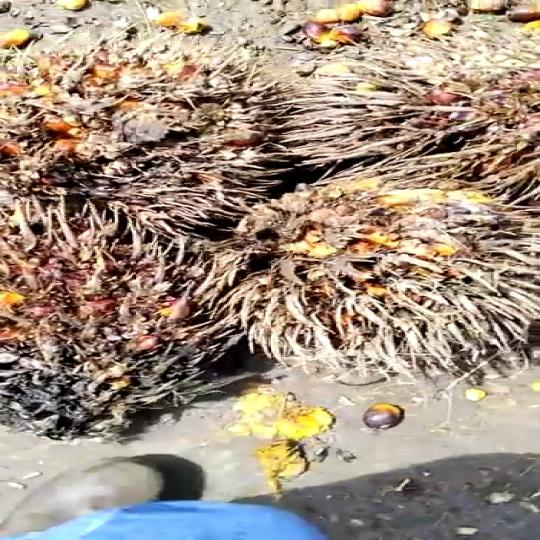terlalu masak: (195, 194, 540, 367), (0, 58, 293, 204)
